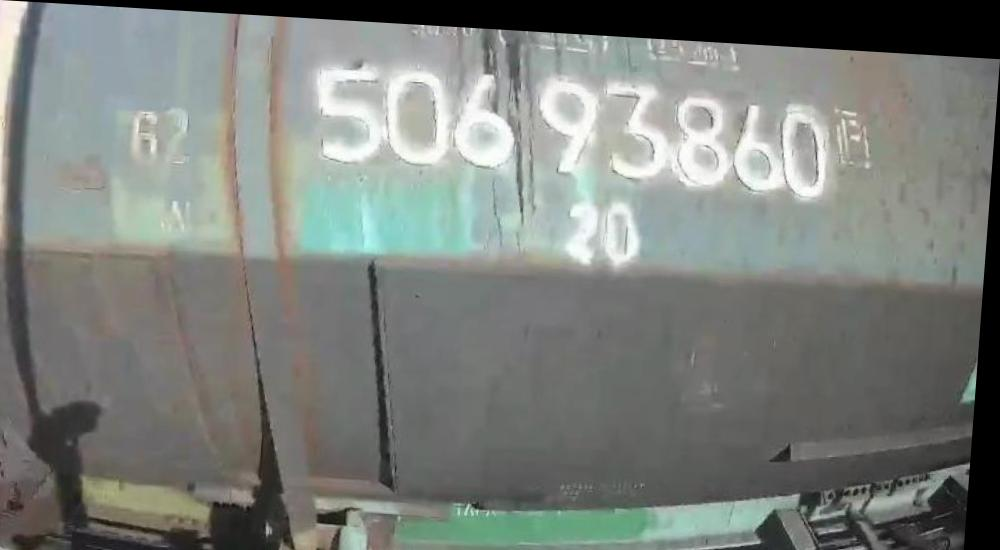Wagon-number: (303, 53, 839, 198)
